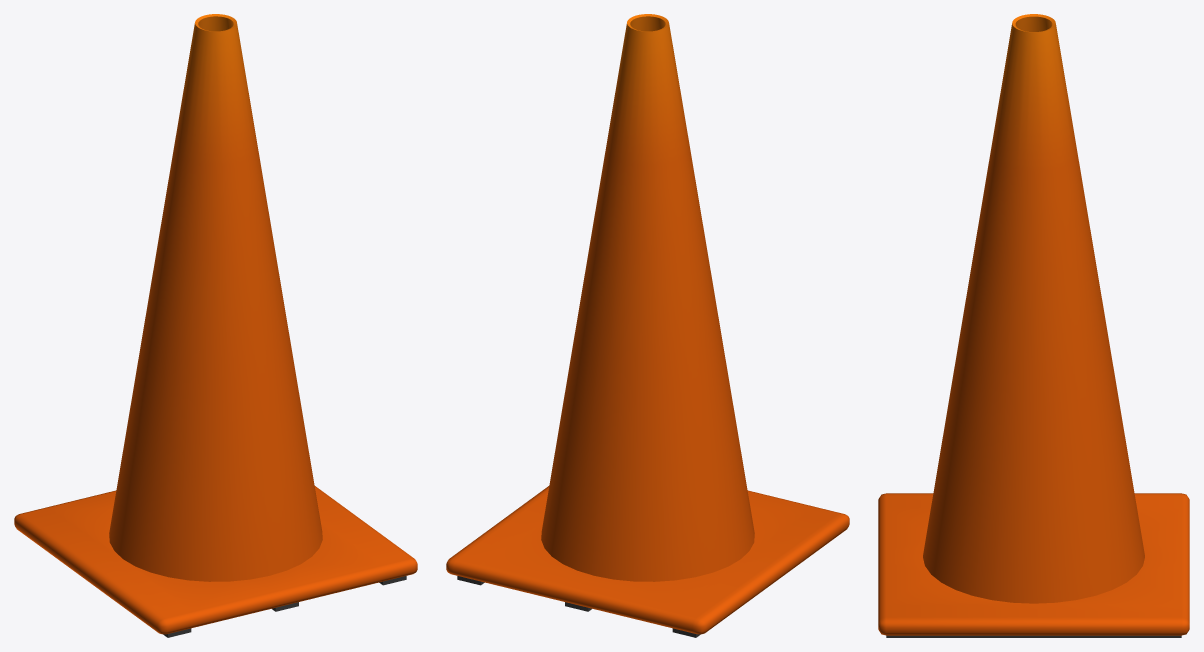
The model's file is cone_medium.glb.
3 views of the same model, side by side, from view 1: azimuth 30°, elevation 25°; view 2: azimuth 150°, elevation 25°; view 3: azimuth 270°, elevation 25° (orthographic). The views are drawn at different scales.
Parts seen in each view (by area): view 1: cone_medium; view 2: cone_medium; view 3: cone_medium.
Part boxes in pixels (x1,y1,x2,y2): cone_medium: [14, 14, 417, 637]; cone_medium: [446, 14, 849, 637]; cone_medium: [878, 14, 1189, 637].
Bounding box in the file's own units: 0.3619 × 0.7116 × 0.3619.
1 material, 1 textured.
